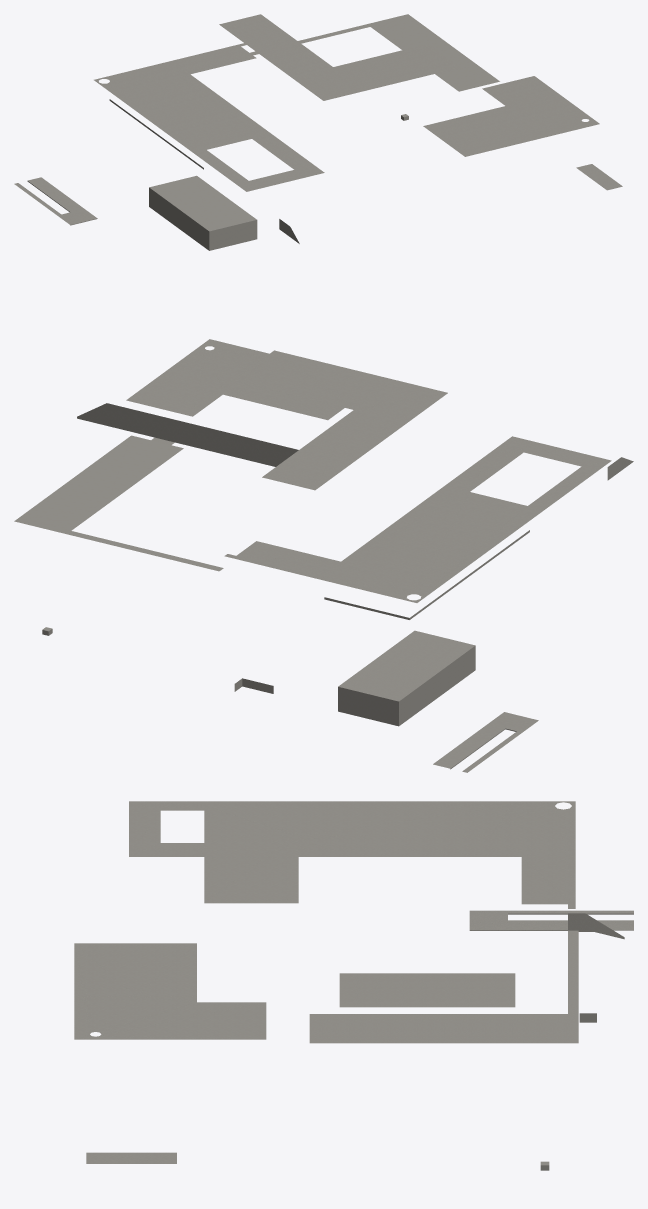
File: kd_stage_135ded_4_20_exterior.glb
The picture shows the model from 3 angles, top to bottom: view 1: azimuth 30°, elevation 25°; view 2: azimuth 150°, elevation 25°; view 3: azimuth 270°, elevation 25°; orthographic projection. The views are drawn at different scales.
Parts seen in each view (by area): view 1: kd_stage_135ded_4_20_exterior; view 2: kd_stage_135ded_4_20_exterior; view 3: kd_stage_135ded_4_20_exterior.
Part boxes in pixels (box(x1,y1,x2,y2)): kd_stage_135ded_4_20_exterior: box(14, 14, 622, 250); kd_stage_135ded_4_20_exterior: box(14, 339, 633, 772); kd_stage_135ded_4_20_exterior: box(74, 801, 633, 1170).
Bounding box in the file's own units: 12.48 × 4.68 × 10.76.
1 material, 1 textured.
